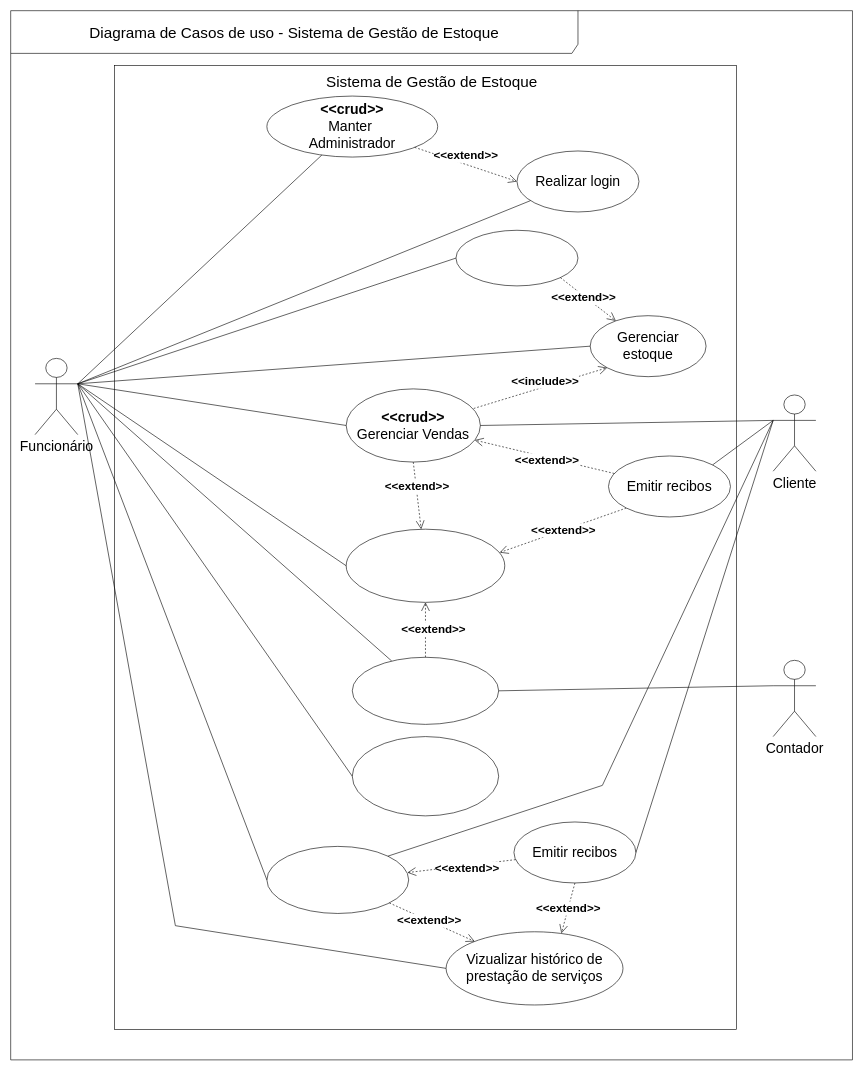
This 863x1071 diagram has some shape labels left out. The shapes that lost their labels are listed below. From the top down, each one's centre as x and y in pixels, then its label:
At point 516,258: "<<crud>> Manter produtos".
At point 425,565: "Visualizar histórico de vendas".
At point 425,690: "Gerar Relatório de Vendas".
At point 425,776: "Visualizar dashboard de negócios".
At point 337,879: "<<crud>> Gerenciar prestação de serviços".
